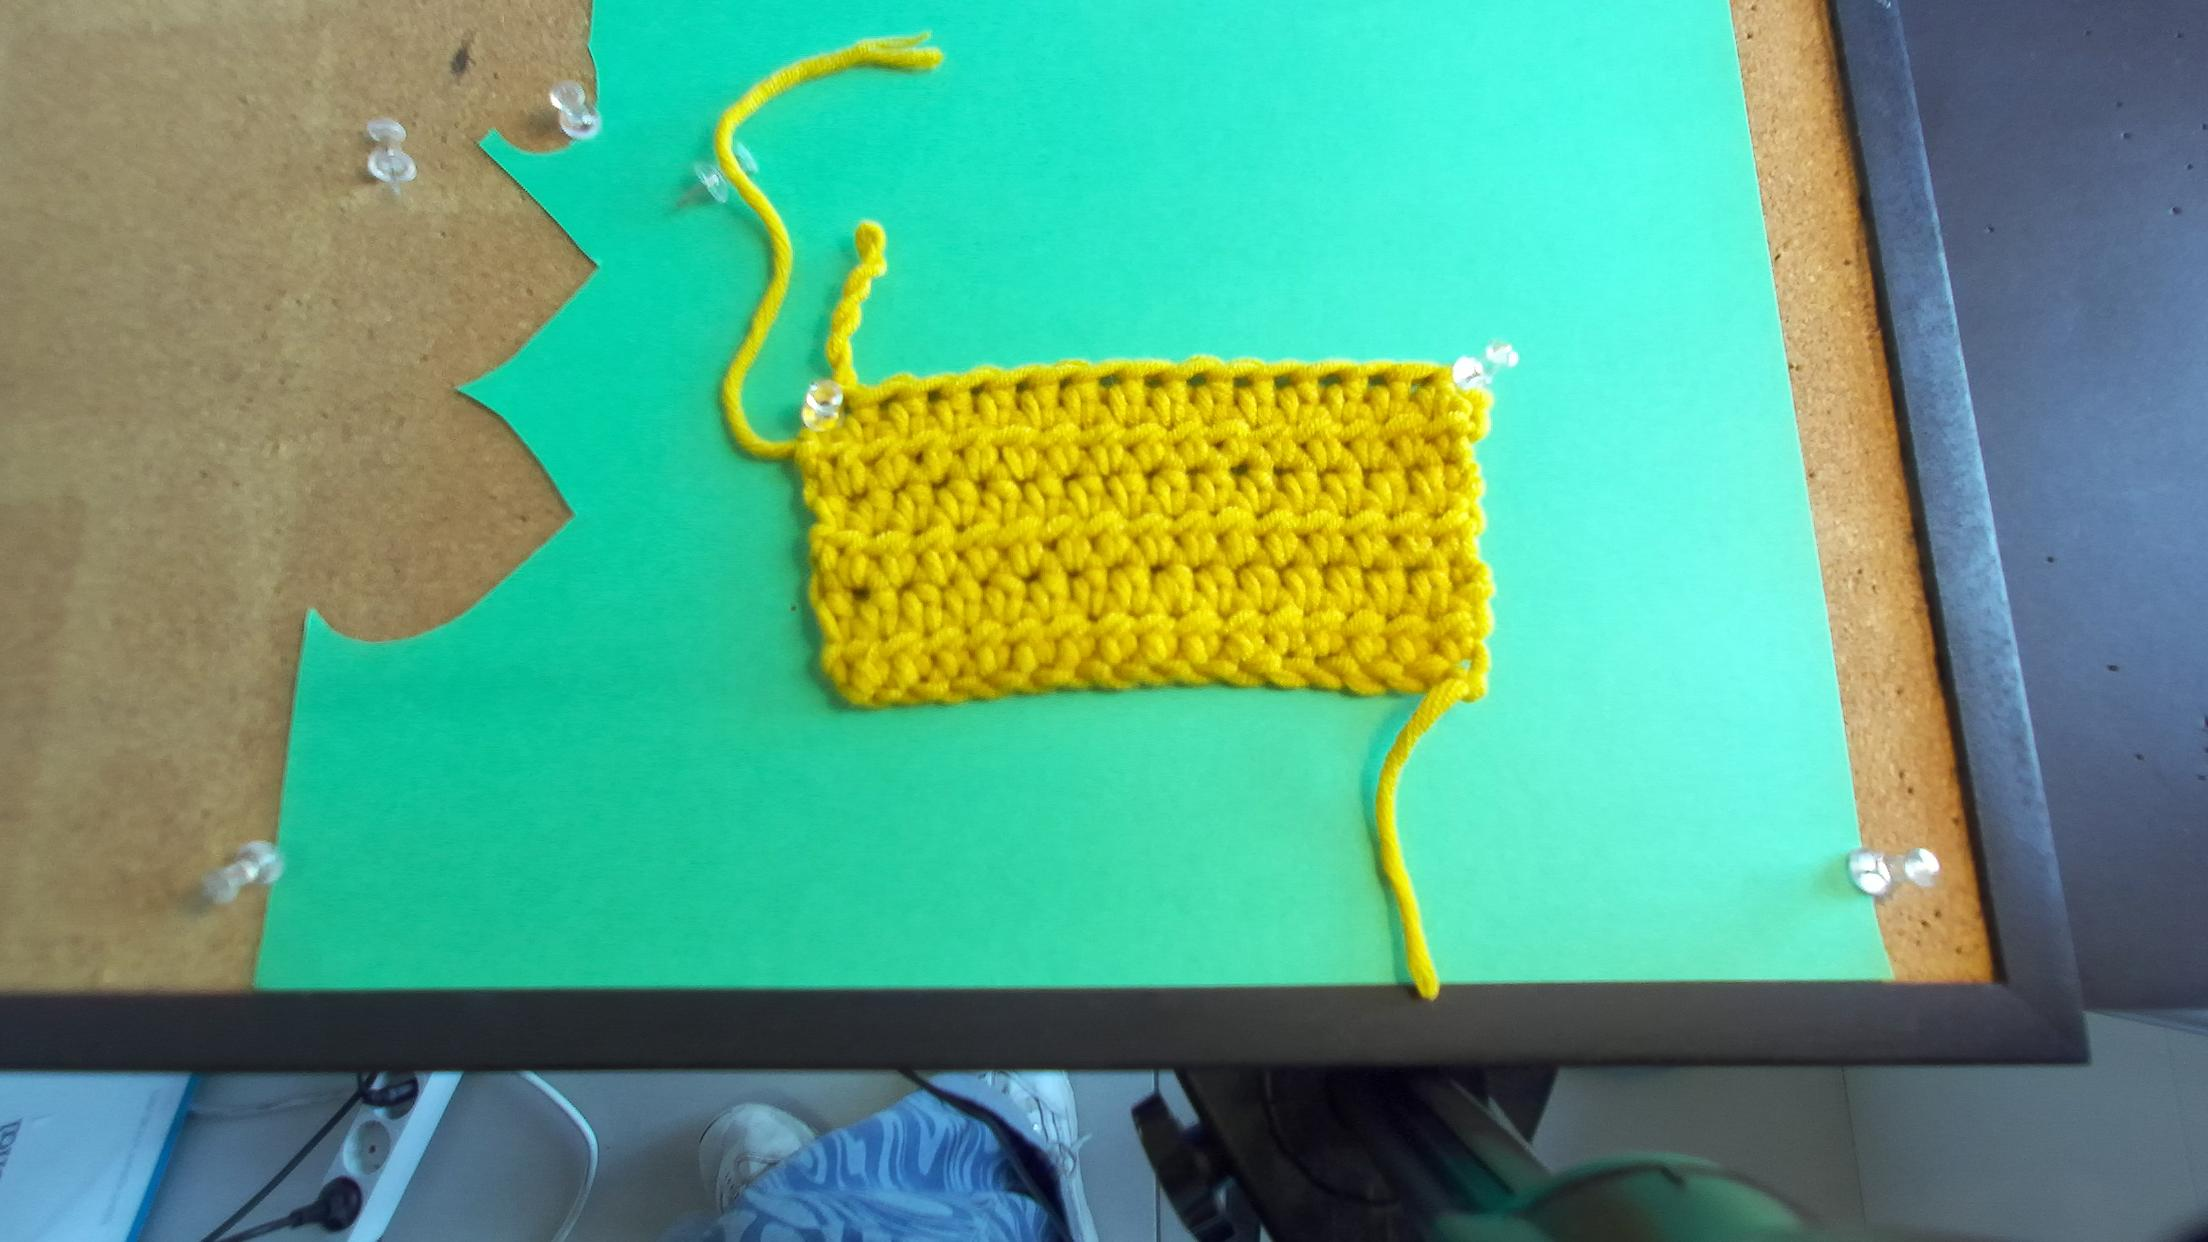hole: (877, 390, 899, 416), (1096, 372, 1124, 391), (1410, 373, 1433, 396), (966, 379, 989, 399), (1186, 370, 1207, 388), (1015, 375, 1031, 397), (1366, 372, 1389, 388), (1318, 372, 1342, 387), (1274, 373, 1294, 391), (1055, 373, 1072, 393), (927, 387, 943, 405), (1145, 373, 1162, 390), (1233, 376, 1254, 387)
swatch: (795, 365, 1495, 714)
